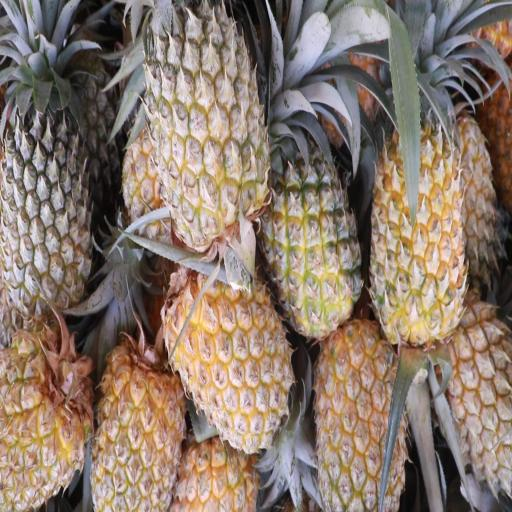------------------------------: (139, 1, 272, 271), (262, 93, 367, 345)
Pineapple - v8 v1: (364, 50, 472, 350), (160, 242, 296, 462), (308, 317, 410, 512), (0, 326, 104, 512), (88, 321, 188, 512), (445, 504, 451, 512)
